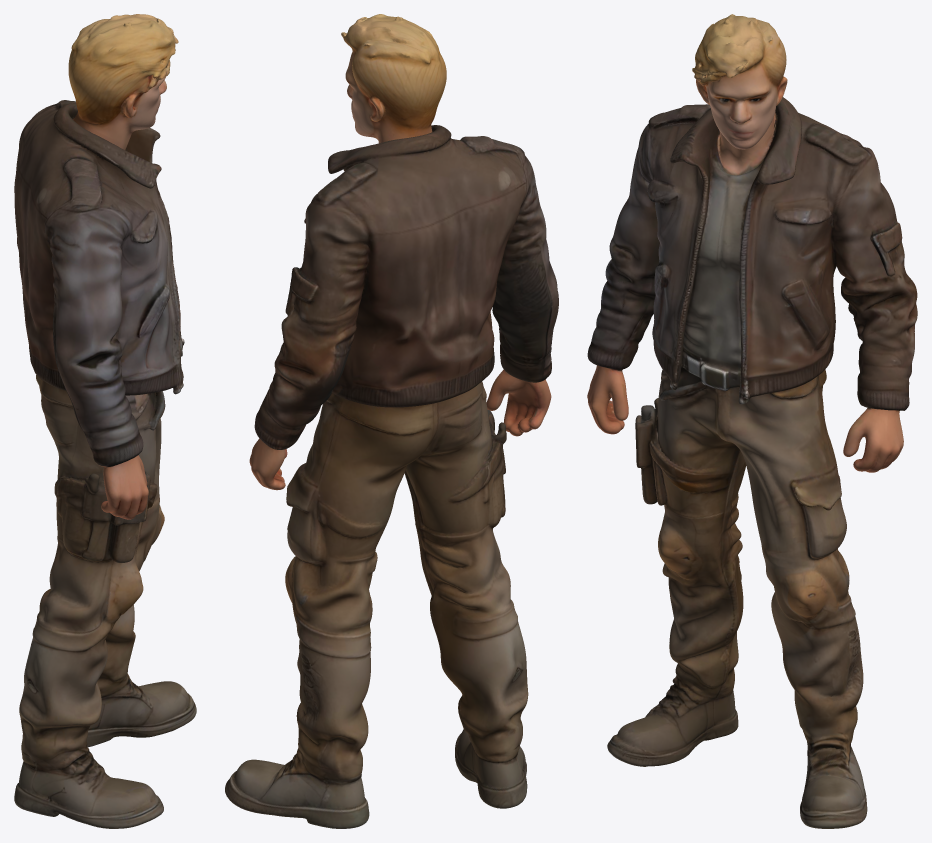
Rendered from ليون_raw.glb.
3 renders of one model, left to right at view 1: azimuth 30°, elevation 25°; view 2: azimuth 150°, elevation 25°; view 3: azimuth 270°, elevation 25°, orthographic.
Visible parts, largest first — view 1: tripo_node_f974b1f2-ea46-4e8e-b880-136fcc7a2cc3; view 2: tripo_node_f974b1f2-ea46-4e8e-b880-136fcc7a2cc3; view 3: tripo_node_f974b1f2-ea46-4e8e-b880-136fcc7a2cc3.
Boxes of the visible parts, x1,y1,x2,y2 form: tripo_node_f974b1f2-ea46-4e8e-b880-136fcc7a2cc3: (14,14,196,828); tripo_node_f974b1f2-ea46-4e8e-b880-136fcc7a2cc3: (225,14,558,828); tripo_node_f974b1f2-ea46-4e8e-b880-136fcc7a2cc3: (587,14,917,828).
Bounding box in the file's own units: 0.3199 × 1 × 0.3927.
Materials: 1 (1 with a texture image).
